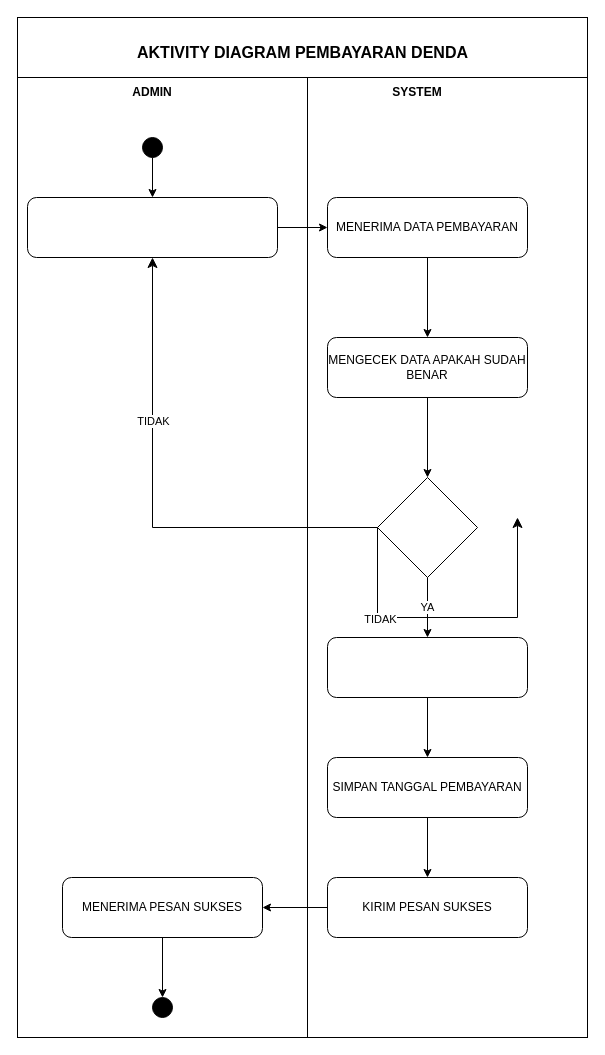
Image size: 605x1055. Some labels were removed from this diagram. Each missing label, with the box of its shape:
MENGISI DATA PEMBAYARAN DENDA: (26, 196, 278, 258)
UPDATE STATUS DENDA: (326, 636, 528, 698)
